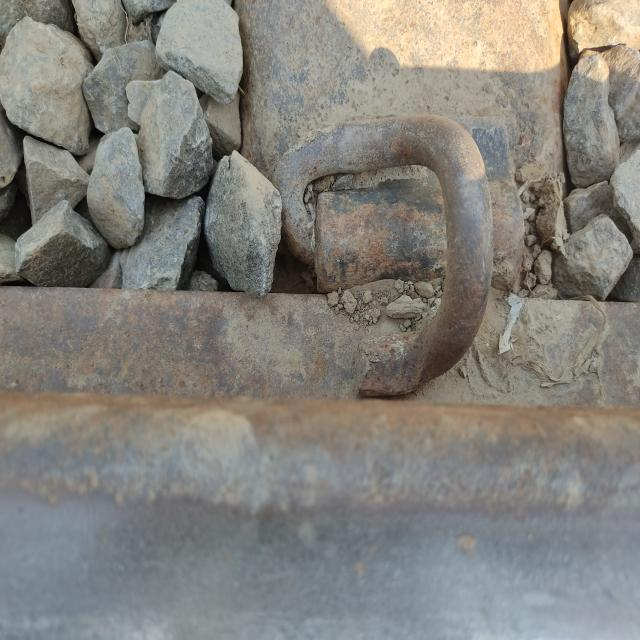No Fault: (282, 106, 530, 410)
